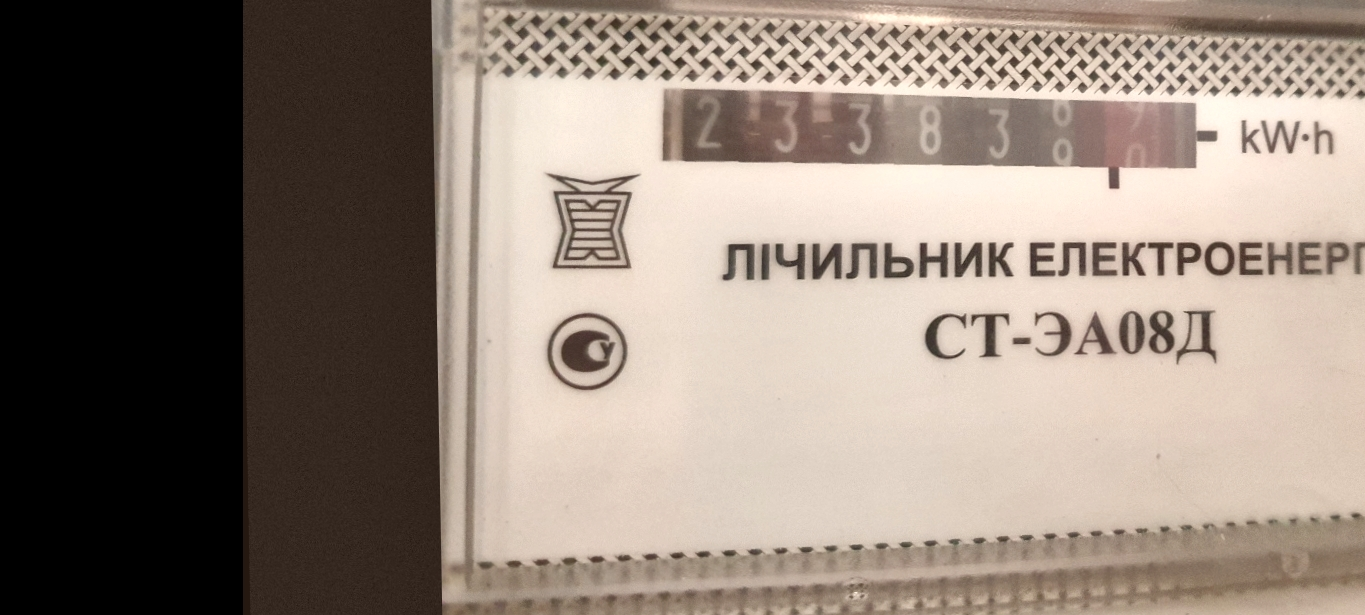0: (1123, 139, 1150, 174)
2: (690, 91, 730, 152)
3: (841, 96, 878, 160), (986, 102, 1015, 160), (773, 95, 801, 154)
8: (914, 99, 948, 158), (1051, 95, 1077, 127)
9: (1121, 96, 1151, 135), (1050, 134, 1079, 170)
screen: (633, 56, 1228, 223)
